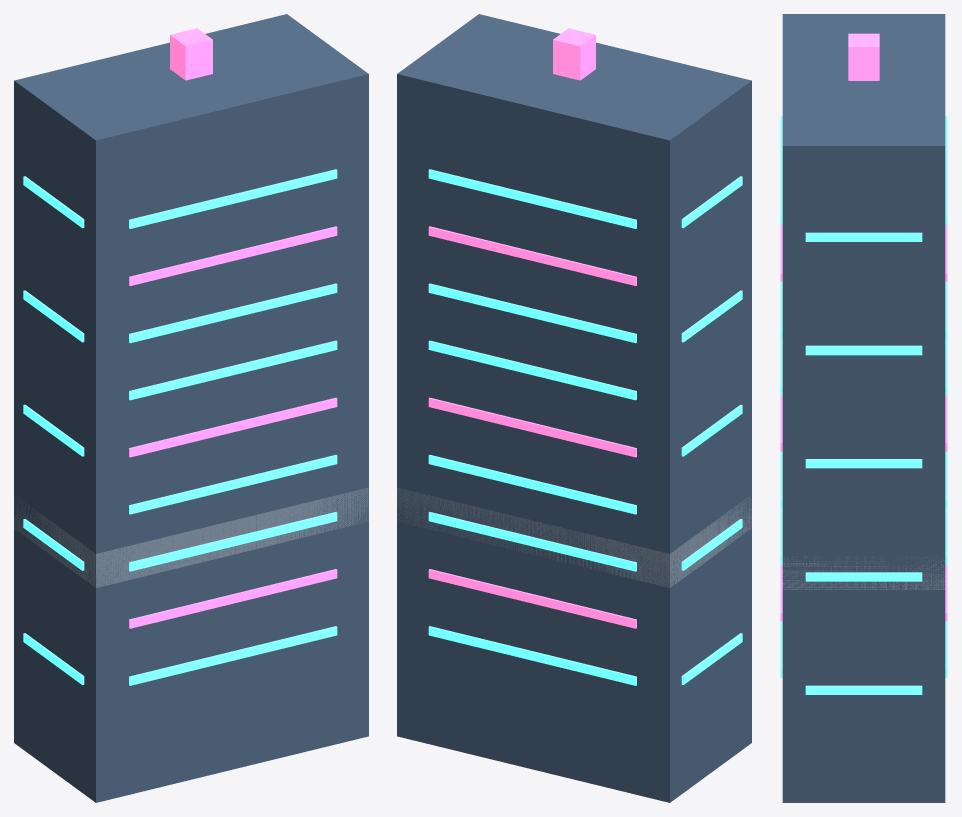
Rendered from 20_crown_collapse.glb.
3 views of the same model, side by side, from view 1: azimuth 30°, elevation 25°; view 2: azimuth 150°, elevation 25°; view 3: azimuth 270°, elevation 25° (orthographic).
Parts seen in each view (by area): view 1: skyline_crown_structure, skyline_crown_terrace_0, skyline_crown_window_6_-1_nocol, skyline_crown_window_10_-1_nocol, skyline_crown_window_4_-1_nocol, skyline_crown_window_5_-1_nocol, skyline_crown_window_7_-1_nocol, skyline_crown_window_8_-1_nocol, skyline_crown_window_9_-1_nocol, skyline_crown_window_2_-1_nocol, skyline_crown_window_3_-1_nocol, skyline_crown_roof_signal (+5 smaller); view 2: skyline_crown_structure, skyline_crown_terrace_0, skyline_crown_window_6_1_nocol, skyline_crown_window_10_1_nocol, skyline_crown_window_4_1_nocol, skyline_crown_window_5_1_nocol, skyline_crown_window_7_1_nocol, skyline_crown_window_8_1_nocol, skyline_crown_window_9_1_nocol, skyline_crown_window_2_1_nocol, skyline_crown_window_3_1_nocol, skyline_crown_roof_signal (+5 smaller); view 3: skyline_crown_structure, skyline_crown_terrace_0, skyline_crown_roof_signal, skyline_crown_sidewindow_8_1_nocol, skyline_crown_sidewindow_4_1_nocol, skyline_crown_sidewindow_10_1_nocol, skyline_crown_sidewindow_2_1_nocol, skyline_crown_sidewindow_6_1_nocol, skyline_crown_window_10_-1_nocol, skyline_crown_window_10_1_nocol.
Part boxes in pixels (<box>): skyline_crown_structure: <box>14,14,368,802</box>; skyline_crown_terrace_0: <box>14,487,368,587</box>; skyline_crown_window_6_-1_nocol: <box>129,397,337,457</box>; skyline_crown_window_10_-1_nocol: <box>129,169,337,228</box>; skyline_crown_window_4_-1_nocol: <box>129,512,337,571</box>; skyline_crown_window_5_-1_nocol: <box>129,455,337,514</box>; skyline_crown_window_7_-1_nocol: <box>129,340,337,400</box>; skyline_crown_window_8_-1_nocol: <box>129,283,337,343</box>; skyline_crown_window_9_-1_nocol: <box>129,226,337,285</box>; skyline_crown_window_2_-1_nocol: <box>129,626,337,685</box>; skyline_crown_window_3_-1_nocol: <box>129,569,337,628</box>; skyline_crown_roof_signal: <box>170,28,212,80</box>; skyline_crown_structure: <box>397,14,751,802</box>; skyline_crown_terrace_0: <box>397,488,751,587</box>; skyline_crown_window_6_1_nocol: <box>428,397,636,457</box>; skyline_crown_window_10_1_nocol: <box>428,169,636,228</box>; skyline_crown_window_4_1_nocol: <box>428,512,636,571</box>; skyline_crown_window_5_1_nocol: <box>428,455,636,514</box>; skyline_crown_window_7_1_nocol: <box>428,340,636,400</box>; skyline_crown_window_8_1_nocol: <box>428,283,636,343</box>; skyline_crown_window_9_1_nocol: <box>428,226,636,285</box>; skyline_crown_window_2_1_nocol: <box>428,626,636,685</box>; skyline_crown_window_3_1_nocol: <box>428,569,636,628</box>; skyline_crown_roof_signal: <box>553,28,595,80</box>; skyline_crown_structure: <box>782,14,945,802</box>; skyline_crown_terrace_0: <box>782,556,944,589</box>; skyline_crown_roof_signal: <box>848,33,879,80</box>; skyline_crown_sidewindow_8_1_nocol: <box>805,345,922,355</box>; skyline_crown_sidewindow_4_1_nocol: <box>805,572,922,581</box>; skyline_crown_sidewindow_10_1_nocol: <box>805,232,922,241</box>; skyline_crown_sidewindow_2_1_nocol: <box>805,685,922,694</box>; skyline_crown_sidewindow_6_1_nocol: <box>805,459,922,468</box>; skyline_crown_window_10_-1_nocol: <box>780,116,782,224</box>; skyline_crown_window_10_1_nocol: <box>945,116,947,224</box>.
Size of the model in its own units: 25.4 by 61.5 by 13.4.
